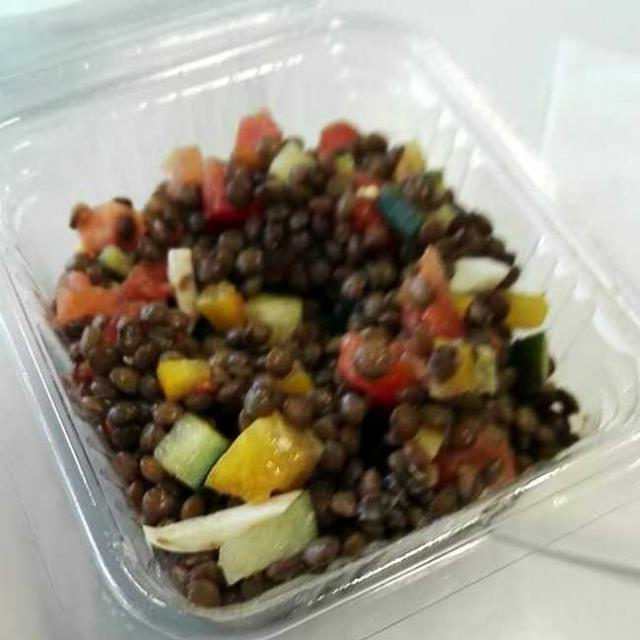lentils: (58, 134, 569, 597)
mixed-vegetables: (55, 126, 542, 583)
